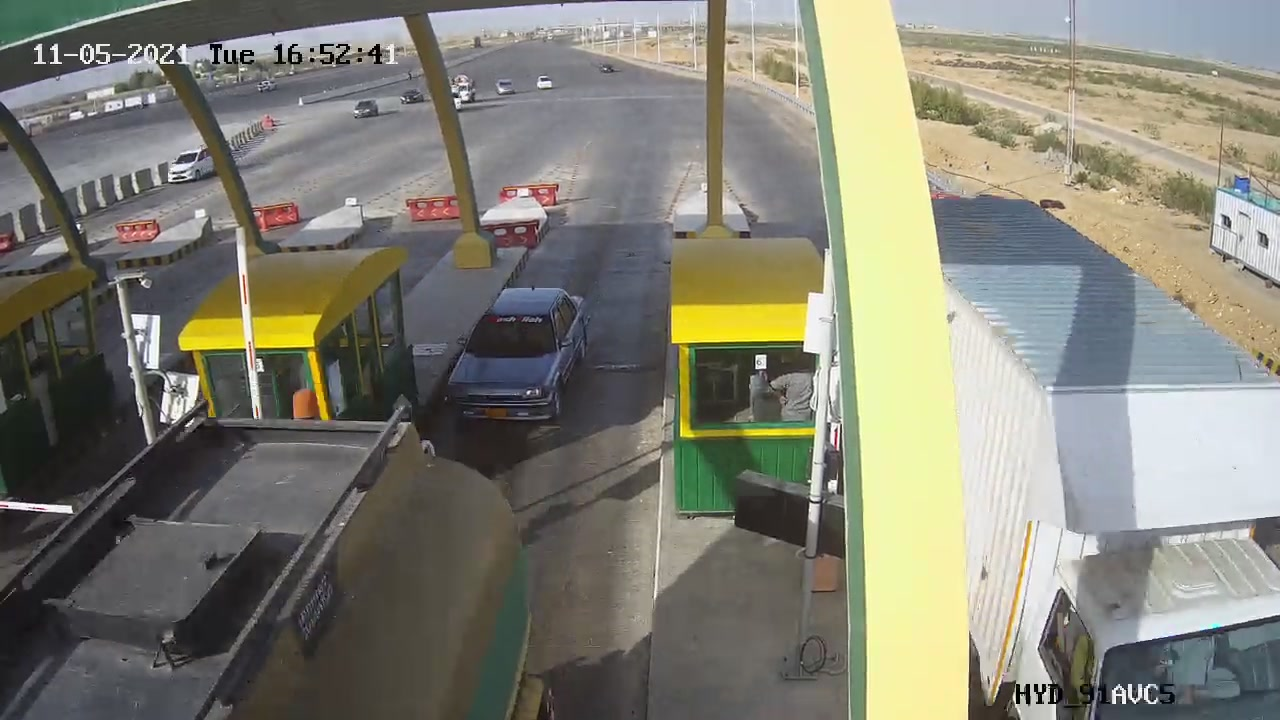F1: (436, 279, 593, 442)
